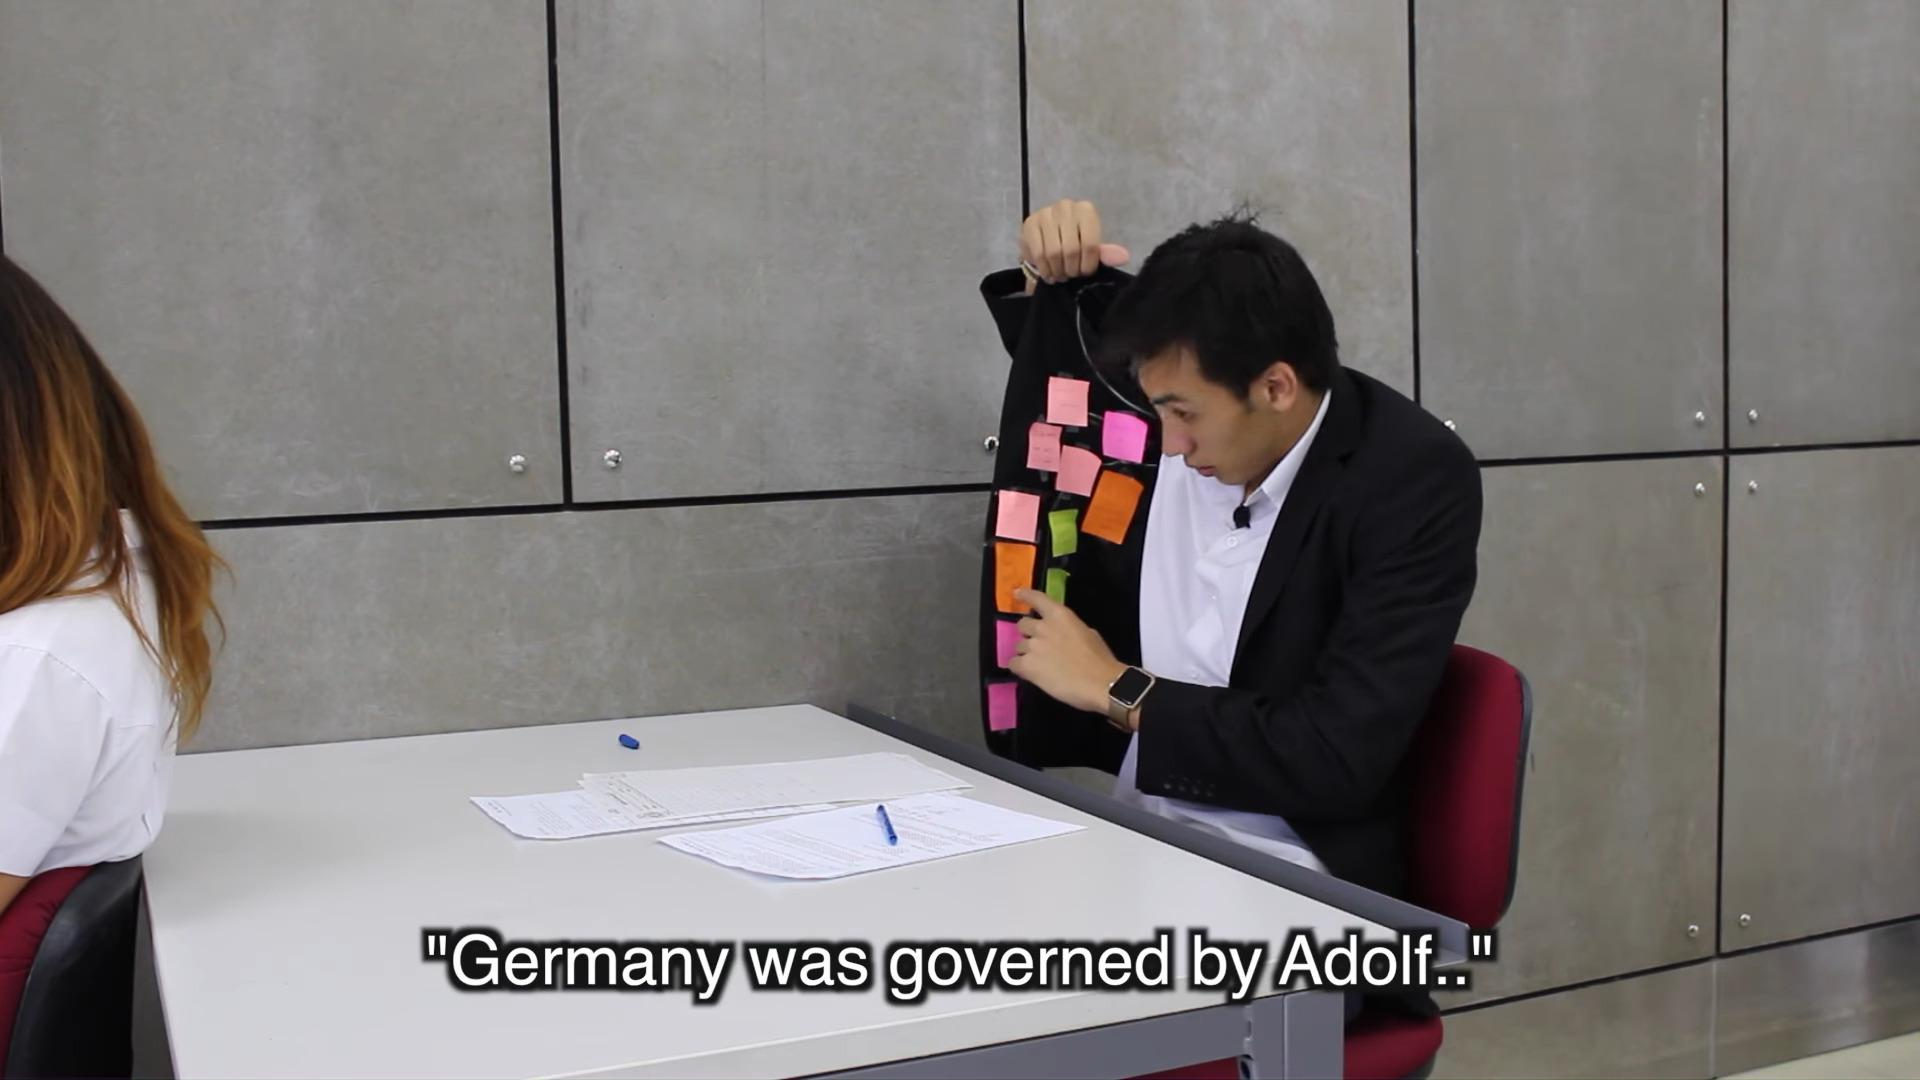cheating: (448, 181, 1510, 905)
